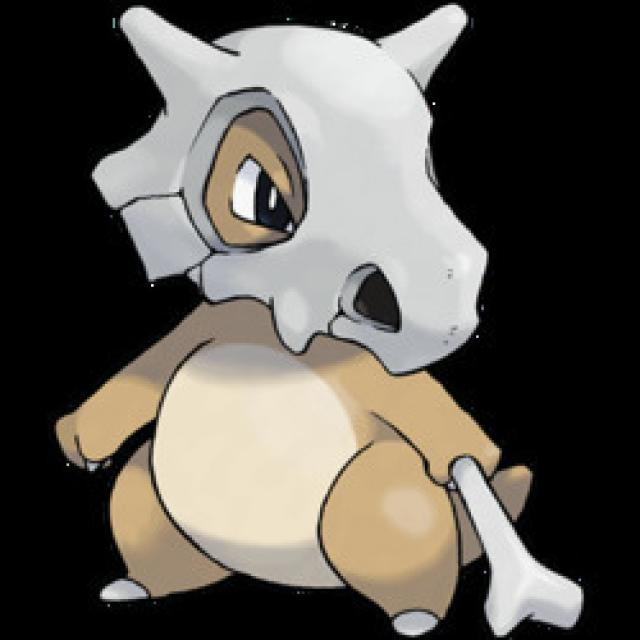Cubone: (63, 4, 548, 629)
